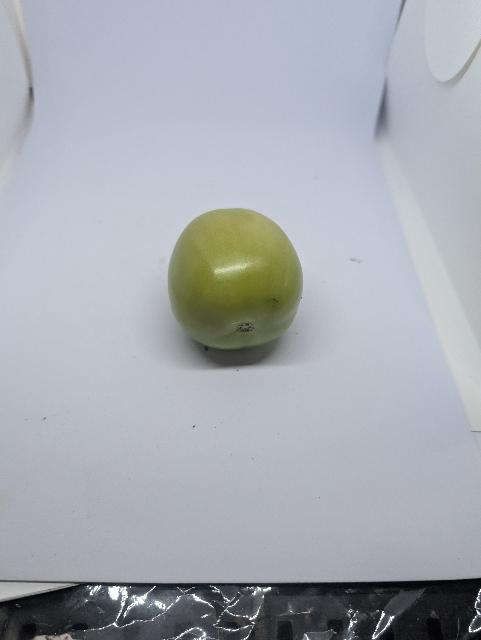green: (164, 205, 307, 351)
